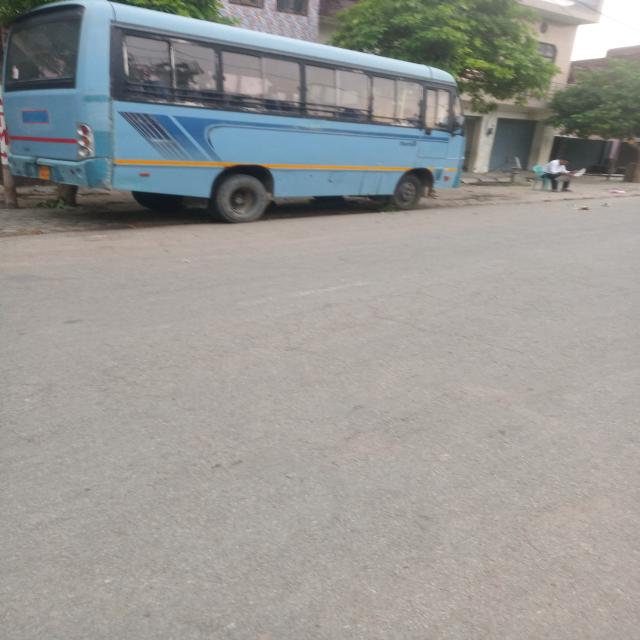Bus: (3, 0, 466, 222)
